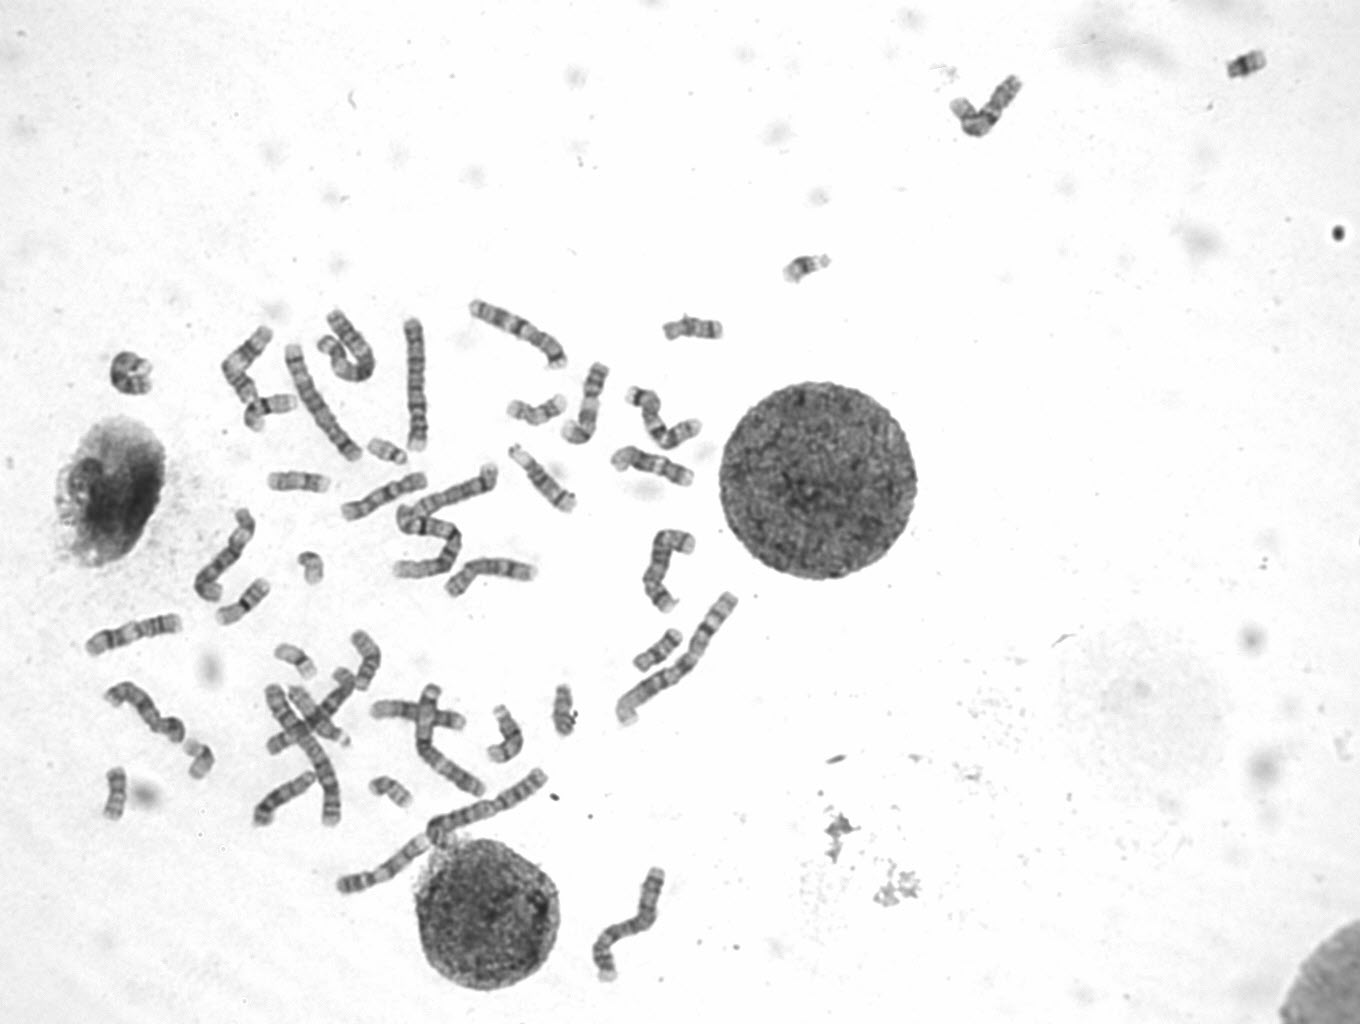chromosomes: (609, 586, 746, 733), (256, 684, 350, 837), (423, 759, 559, 856), (585, 852, 675, 993), (282, 333, 367, 465), (412, 678, 492, 802), (264, 662, 361, 758), (333, 825, 436, 904), (467, 297, 571, 371), (942, 63, 1032, 147), (194, 499, 261, 606), (641, 522, 707, 618), (75, 607, 190, 660), (503, 438, 582, 516), (95, 678, 191, 740), (338, 460, 431, 525), (217, 314, 282, 407), (391, 504, 467, 583), (443, 547, 546, 605), (311, 302, 382, 384), (624, 381, 705, 452), (414, 456, 502, 520), (399, 308, 436, 454), (607, 436, 701, 488), (286, 682, 356, 752), (563, 354, 615, 449), (252, 764, 325, 830), (330, 628, 387, 694), (369, 696, 470, 733), (215, 570, 276, 628), (106, 344, 162, 402), (658, 301, 733, 343), (485, 701, 530, 770), (1221, 38, 1274, 95), (631, 623, 685, 678), (237, 390, 303, 433), (364, 765, 421, 811), (501, 389, 569, 428), (178, 730, 221, 791), (266, 636, 319, 683), (546, 675, 584, 741), (260, 467, 337, 497), (782, 246, 834, 288), (99, 762, 133, 822), (363, 430, 418, 467), (290, 541, 329, 592)
